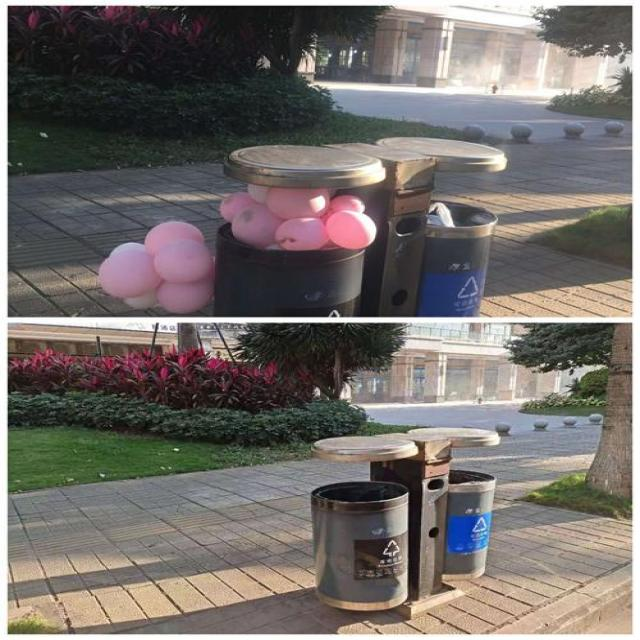garbage_bin: (307, 428, 501, 620)
overflow: (211, 135, 507, 315)
